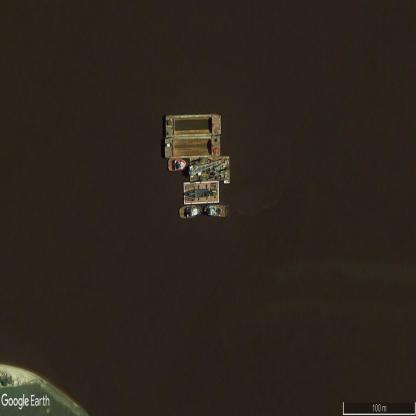ship: (204, 204, 226, 218), (179, 205, 202, 218), (168, 158, 186, 171), (223, 180, 230, 184)
